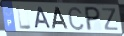A: (34, 6, 53, 30), (51, 7, 70, 31)
C: (67, 6, 86, 32)
L: (16, 5, 33, 30)
P: (85, 6, 102, 32)
Z: (101, 7, 120, 32)
